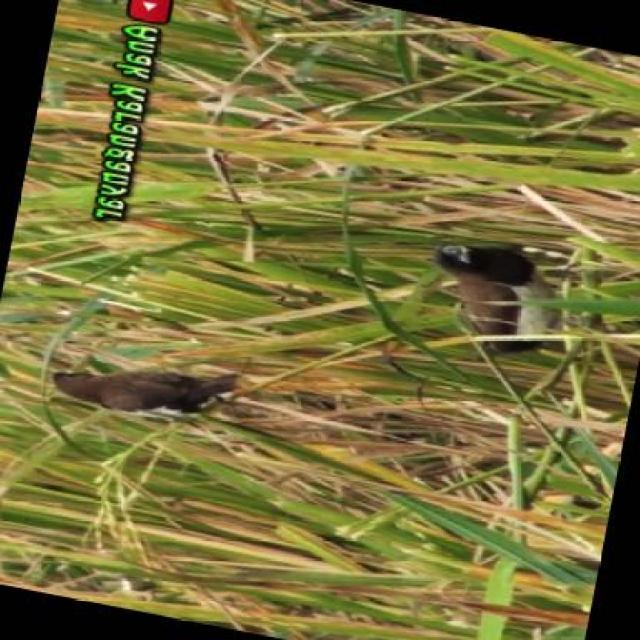Bird: (433, 243, 562, 355), (51, 366, 244, 416)
